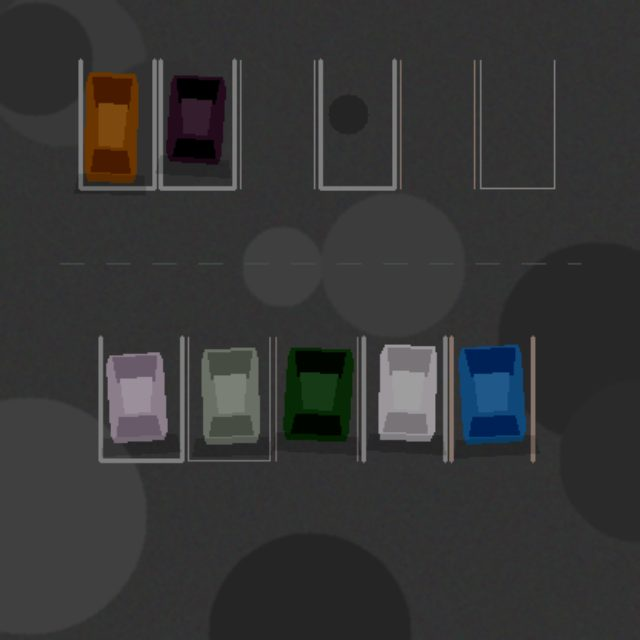space-empty: (240, 60, 314, 188), (320, 60, 394, 188), (400, 60, 474, 188), (480, 60, 554, 188)
space-occupied: (100, 337, 182, 460), (275, 337, 357, 460), (363, 337, 445, 460), (188, 337, 269, 460), (451, 337, 532, 460), (80, 60, 154, 188), (160, 60, 234, 188)
